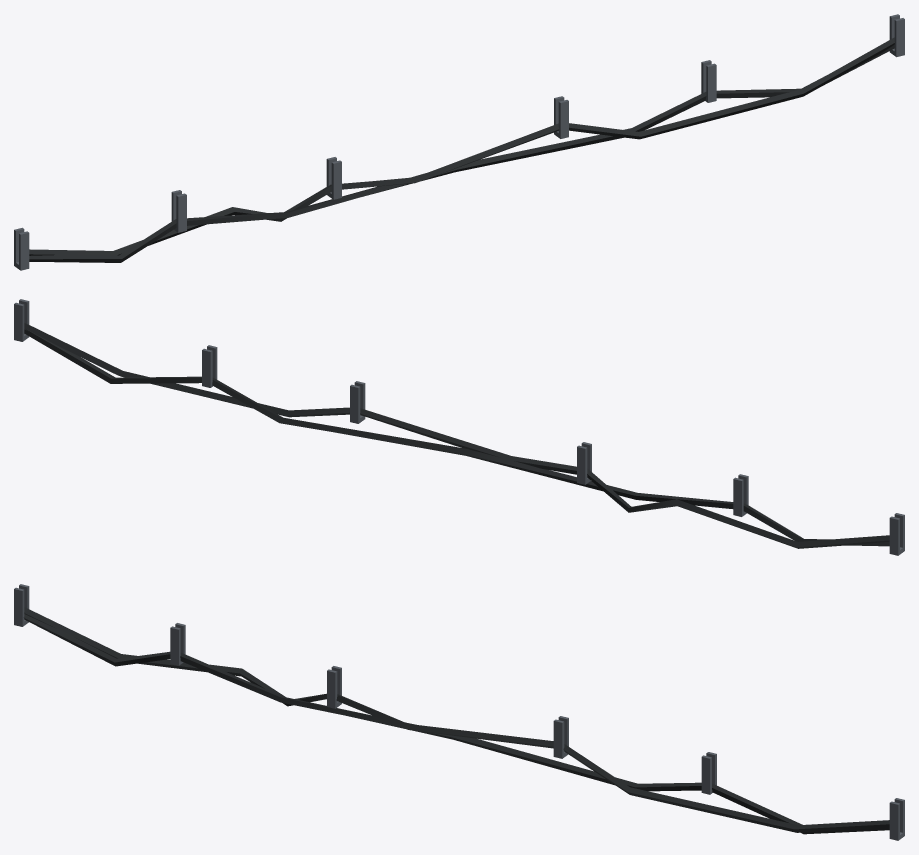
Rendered from SM_Prop_Wire_Roof_01.glb.
The picture shows the model from 3 angles, top to bottom: view 1: azimuth 30°, elevation 25°; view 2: azimuth 150°, elevation 25°; view 3: azimuth 330°, elevation 25°; orthographic projection.
Parts seen in each view (by area): view 1: SM_Prop_Wire_Roof_01; view 2: SM_Prop_Wire_Roof_01; view 3: SM_Prop_Wire_Roof_01.
Boxes of the visible parts, bbox=[...] form: SM_Prop_Wire_Roof_01: bbox=[14, 14, 904, 270]; SM_Prop_Wire_Roof_01: bbox=[14, 299, 904, 555]; SM_Prop_Wire_Roof_01: bbox=[14, 584, 904, 840].
Size of the model in its own units: 6.2 by 0.3826 by 0.1618.
1 material, 1 textured.
